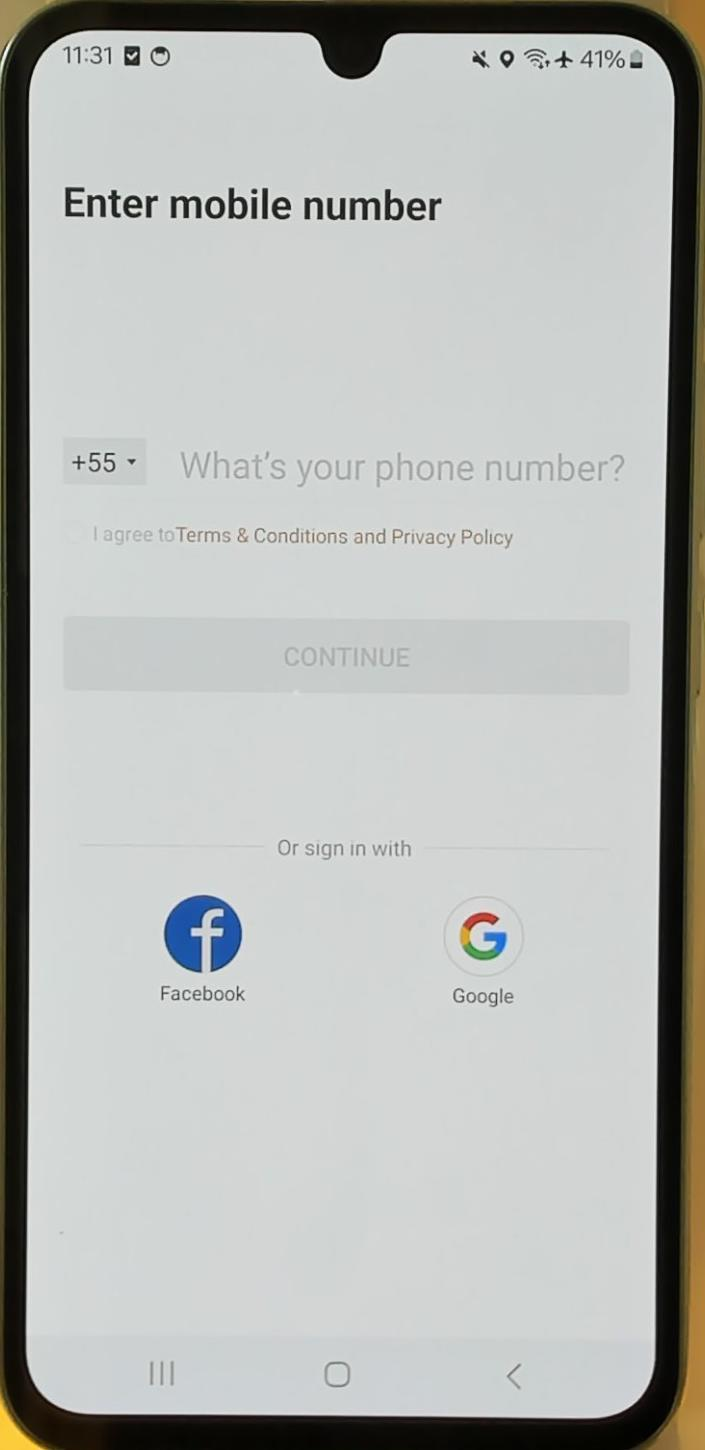CommunBotton: (154, 886, 250, 1008), (438, 894, 524, 1012), (490, 1342, 540, 1408), (318, 1340, 368, 1398), (140, 1348, 186, 1400)
TextField: (48, 418, 646, 510)
